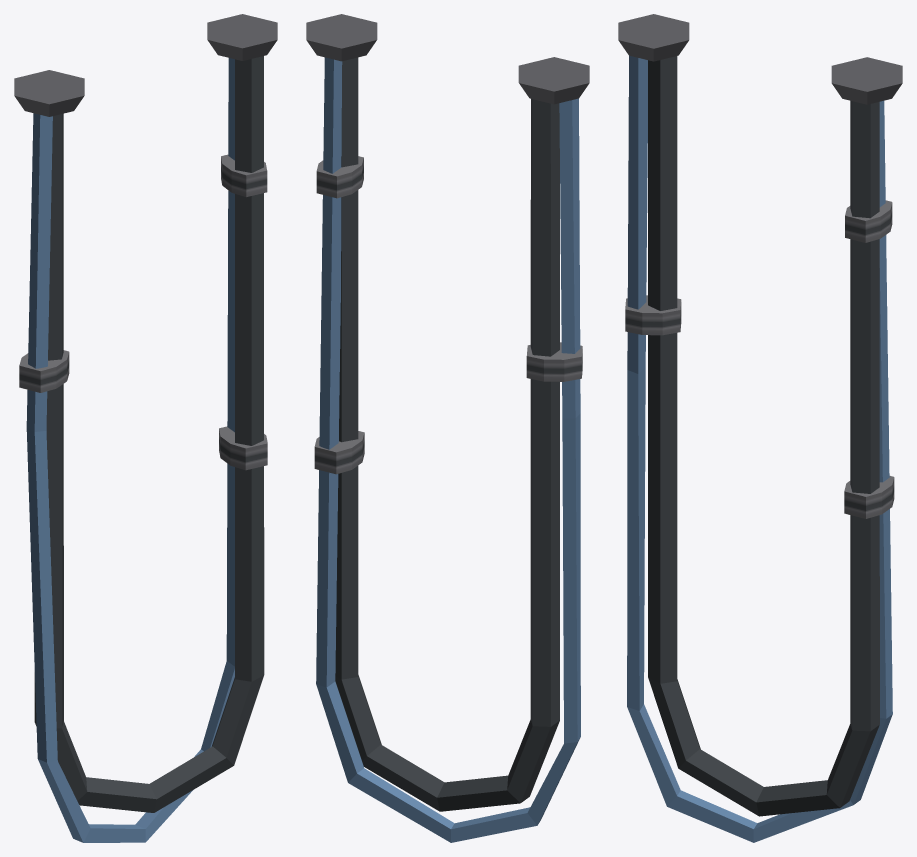
The model's file is SM_Prop_Wires_02.fbx.
3 renders of one model, left to right at view 1: azimuth 30°, elevation 25°; view 2: azimuth 150°, elevation 25°; view 3: azimuth 330°, elevation 25°, orthographic.
Parts seen in each view (by area): view 1: SM_Prop_Wires_02; view 2: SM_Prop_Wires_02; view 3: SM_Prop_Wires_02.
Part boxes in pixels (x1=…): SM_Prop_Wires_02: x1=14, y1=14, x2=277, y2=842; SM_Prop_Wires_02: x1=306, y1=14, x2=589, y2=842; SM_Prop_Wires_02: x1=618, y1=14, x2=902, y2=842.
Size of the model in its own units: 42.48 by 116 by 11.95.
